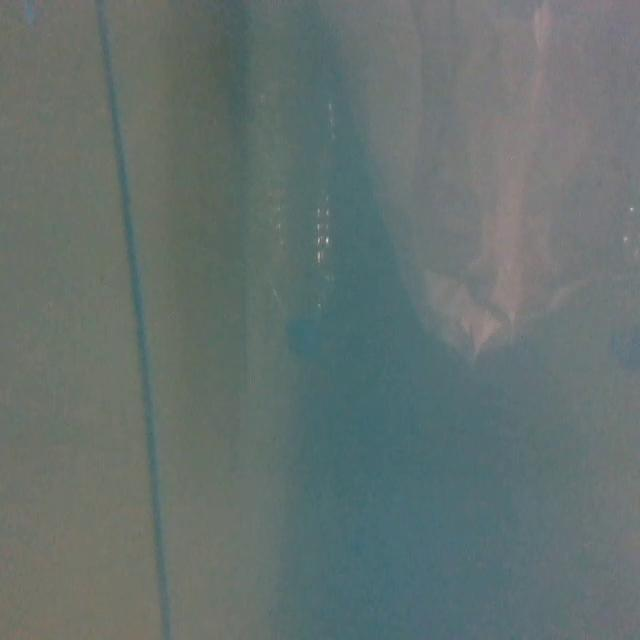plastic bags: (348, 0, 640, 356)
plastic bottle: (253, 64, 343, 353)
